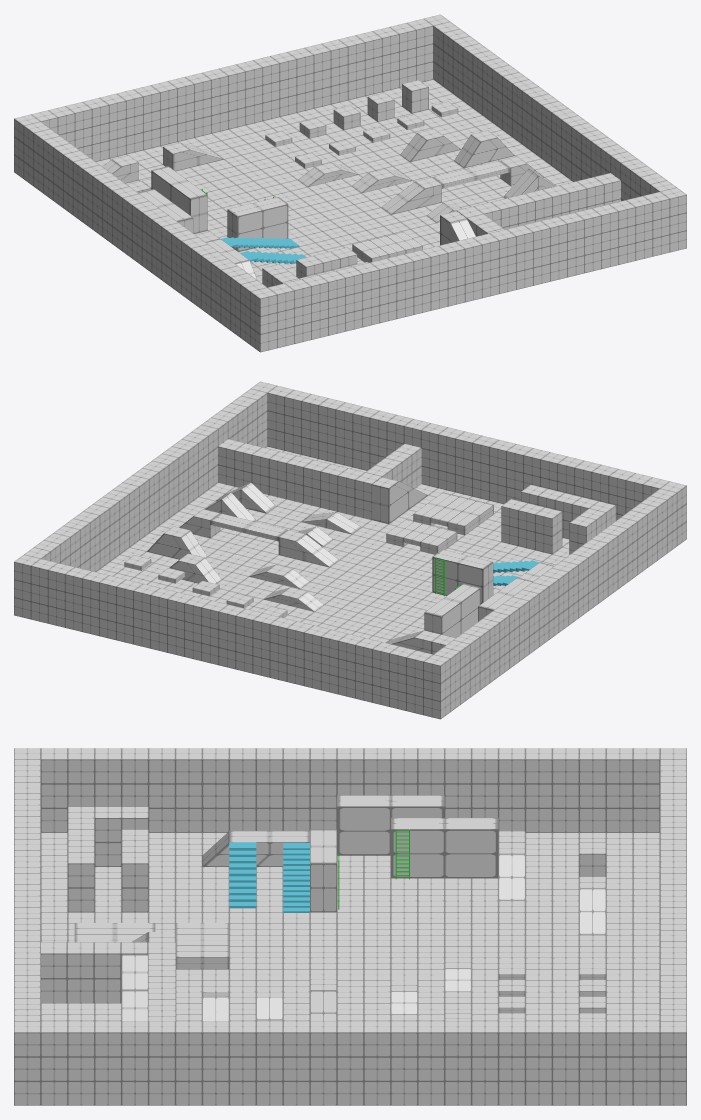
The model's file is testmap.glb.
3 views of the same model, one above another, from view 1: azimuth 30°, elevation 25°; view 2: azimuth 150°, elevation 25°; view 3: azimuth 270°, elevation 25° (orthographic). The views are drawn at different scales.
Visible parts, largest first — view 1: obj_003-col, pool-col, obj_033-col, obj_032-col, obj_017-col, obj_005-col, obj_049-col, obj_016-col, obj_029-col, obj_018-col, stair1-col, obj_014-col (+13 smaller); view 2: obj_003-col, pool-col, obj_048-col, obj_049-col, obj_033-col, obj_032-col, stair1-col, obj_005-col, obj_017-col, obj_018-col, obj_016-col, obj_036-col (+12 smaller); view 3: obj_003-col, pool-col, obj_032-col, obj_048-col, obj_031-col, obj_049-col, obj_034-col, obj_033-col, obj_001-col, obj_002-col, stair2-col, obj_028-col (+12 smaller).
Boxes of the visible parts, x1,y1,x2,y2 form: obj_003-col: [14, 14, 686, 352]; pool-col: [456, 173, 620, 236]; obj_033-col: [227, 197, 288, 251]; obj_032-col: [151, 166, 207, 233]; obj_017-col: [454, 130, 514, 167]; obj_005-col: [381, 177, 441, 214]; obj_049-col: [296, 247, 357, 278]; obj_016-col: [400, 129, 460, 161]; obj_029-col: [163, 142, 223, 170]; obj_018-col: [432, 160, 510, 188]; stair1-col: [440, 211, 475, 245]; obj_014-col: [298, 162, 357, 186]; obj_003-col: [14, 381, 686, 719]; pool-col: [218, 439, 421, 519]; obj_048-col: [521, 484, 615, 554]; obj_049-col: [501, 499, 562, 554]; obj_033-col: [432, 549, 493, 603]; obj_032-col: [424, 583, 480, 637]; stair1-col: [372, 477, 427, 523]; obj_005-col: [278, 530, 339, 567]; obj_017-col: [147, 526, 207, 559]; obj_018-col: [210, 513, 287, 541]; obj_016-col: [169, 553, 221, 583]; obj_036-col: [447, 500, 493, 535]; obj_003-col: [14, 748, 686, 1105]; pool-col: [41, 942, 176, 1021]; obj_032-col: [391, 818, 498, 878]; obj_048-col: [68, 806, 148, 912]; obj_031-col: [337, 795, 444, 855]; obj_049-col: [121, 829, 148, 912]; obj_034-col: [202, 831, 309, 866]; obj_033-col: [310, 829, 336, 912]; obj_001-col: [283, 843, 309, 912]; obj_002-col: [229, 842, 256, 908]; stair2-col: [121, 954, 147, 1021]; obj_028-col: [498, 842, 525, 900].
Bounding box in the file's own units: 100 × 12.1 × 100.
3 materials, 1 textured.
